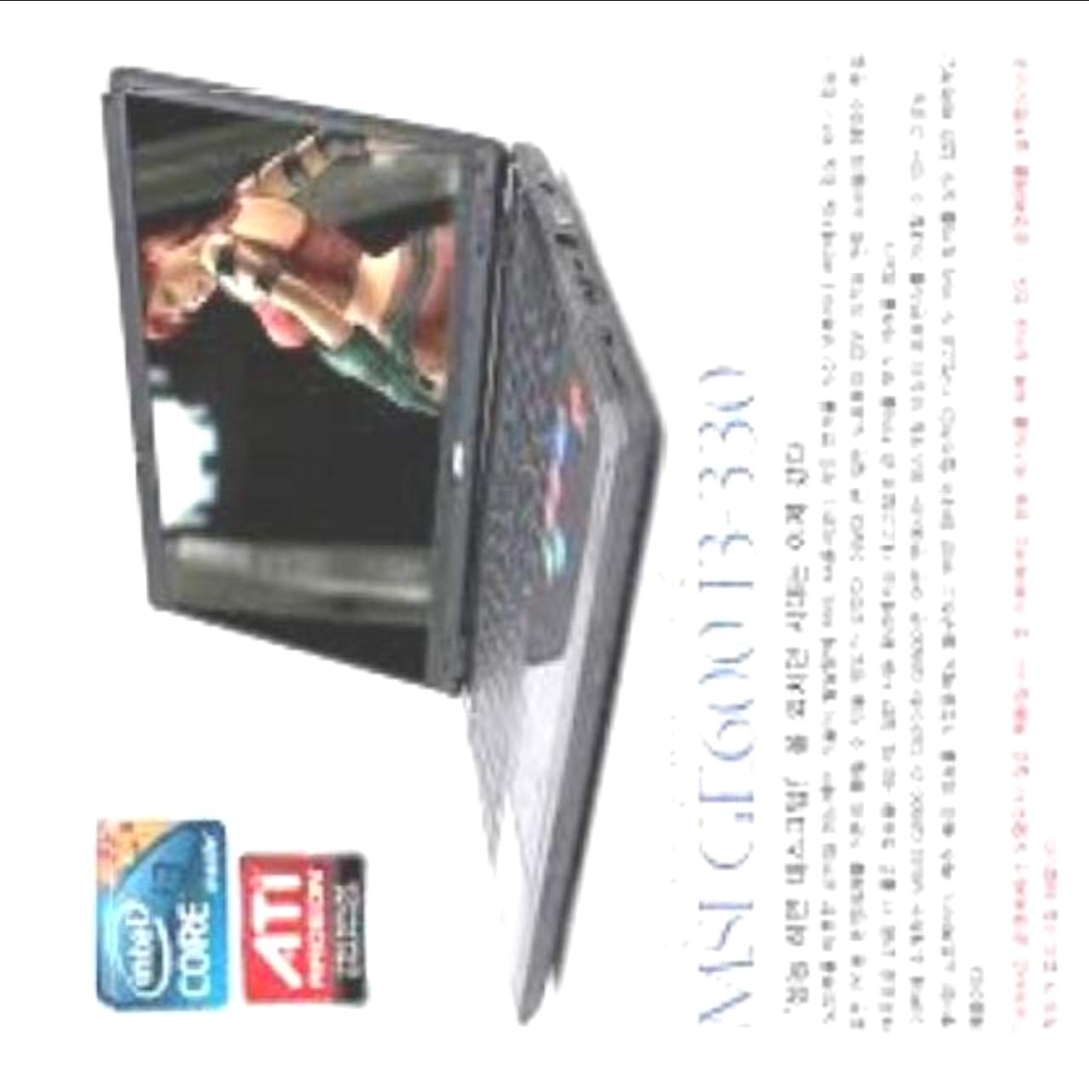laptop: (103, 85, 670, 1035)
